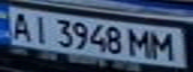3: (51, 16, 75, 48)
4: (87, 21, 106, 53)
8: (103, 24, 127, 56)
9: (69, 19, 90, 51)
A: (6, 9, 36, 42)
I: (27, 12, 54, 45)
M: (148, 30, 181, 62), (127, 26, 154, 59)
